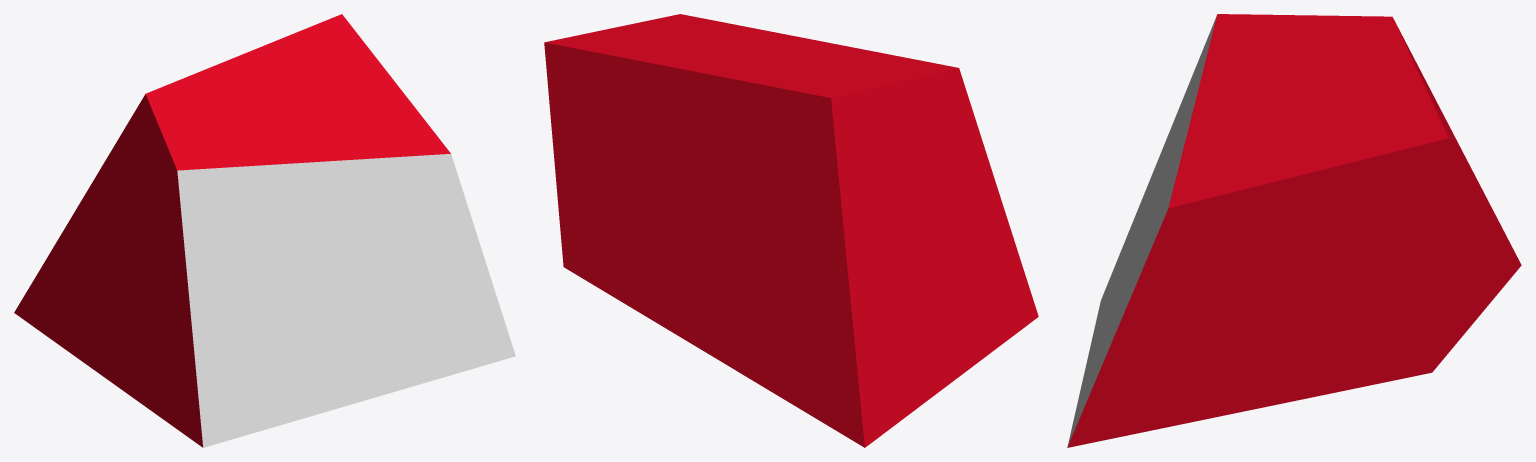
File: GGJ_RabbitChunk.fbx
3 renders of one model, left to right at view 1: azimuth 30°, elevation 25°; view 2: azimuth 150°, elevation 25°; view 3: azimuth 270°, elevation 25°, orthographic. The views are drawn at different scales.
Visible parts, largest first — view 1: Cube; view 2: Cube; view 3: Cube.
Boxes of the visible parts, left/top/right/bottom form: Cube: left=14, top=14, right=515, bottom=447; Cube: left=544, top=14, right=1038, bottom=447; Cube: left=1067, top=14, right=1521, bottom=447.
Size of the model in its own units: 274 by 216 by 268.
